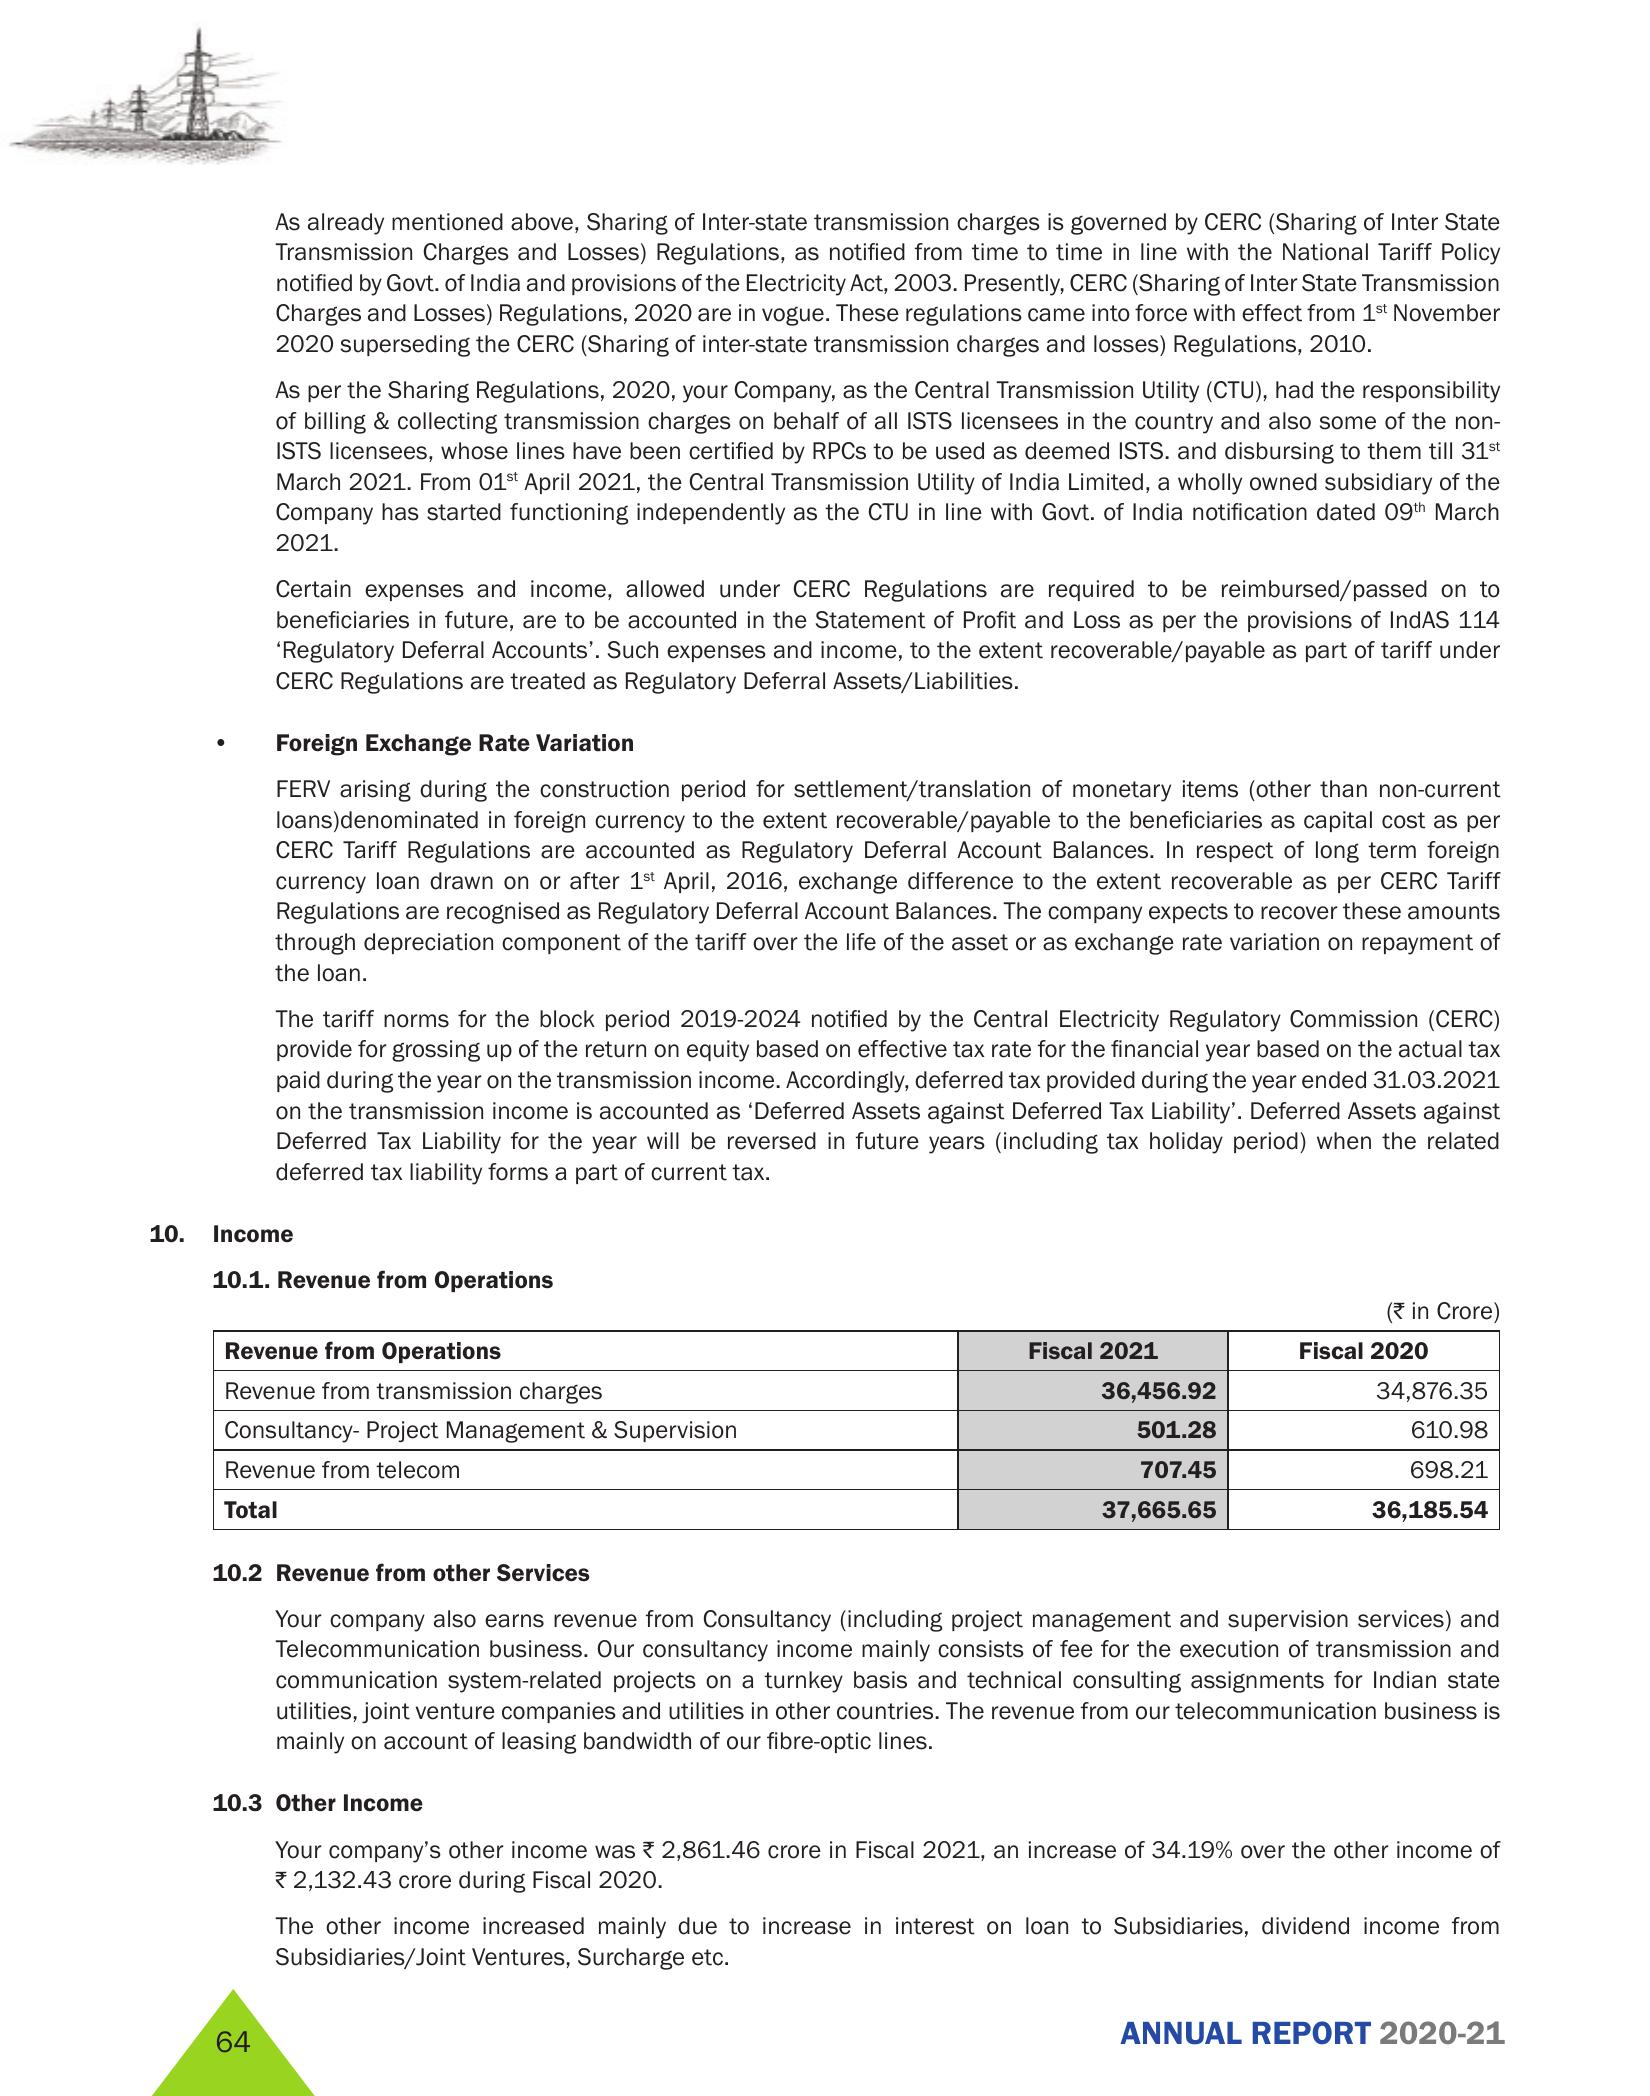Footer: (0, 1979, 1650, 2096)
Header: (0, 0, 1650, 175)
Table: (184, 1303, 1565, 1536)
